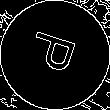P_E: (25, 30, 85, 80)
